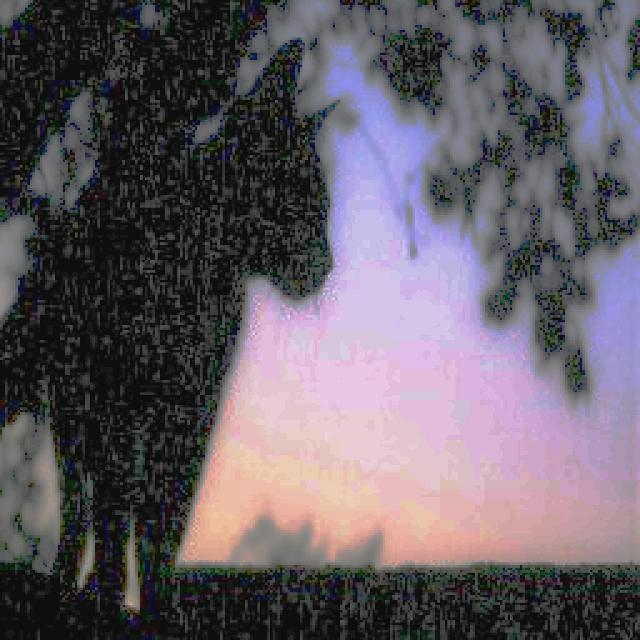cat: (2, 31, 343, 608)
